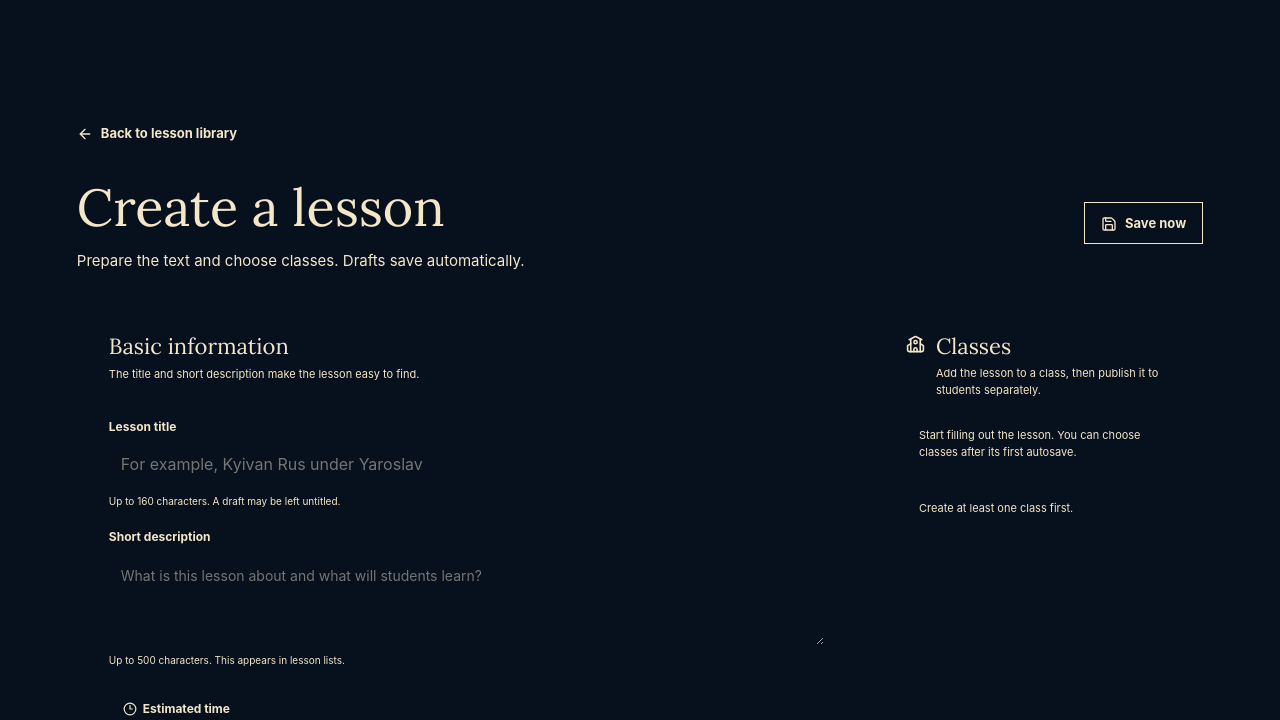
Scenario: teacher lesson workspace › does not create an empty draft and autosaves after text input
Type "The first settlement" into the field labelled "Lesson title" at point(466, 464), box [109,442,824,486]
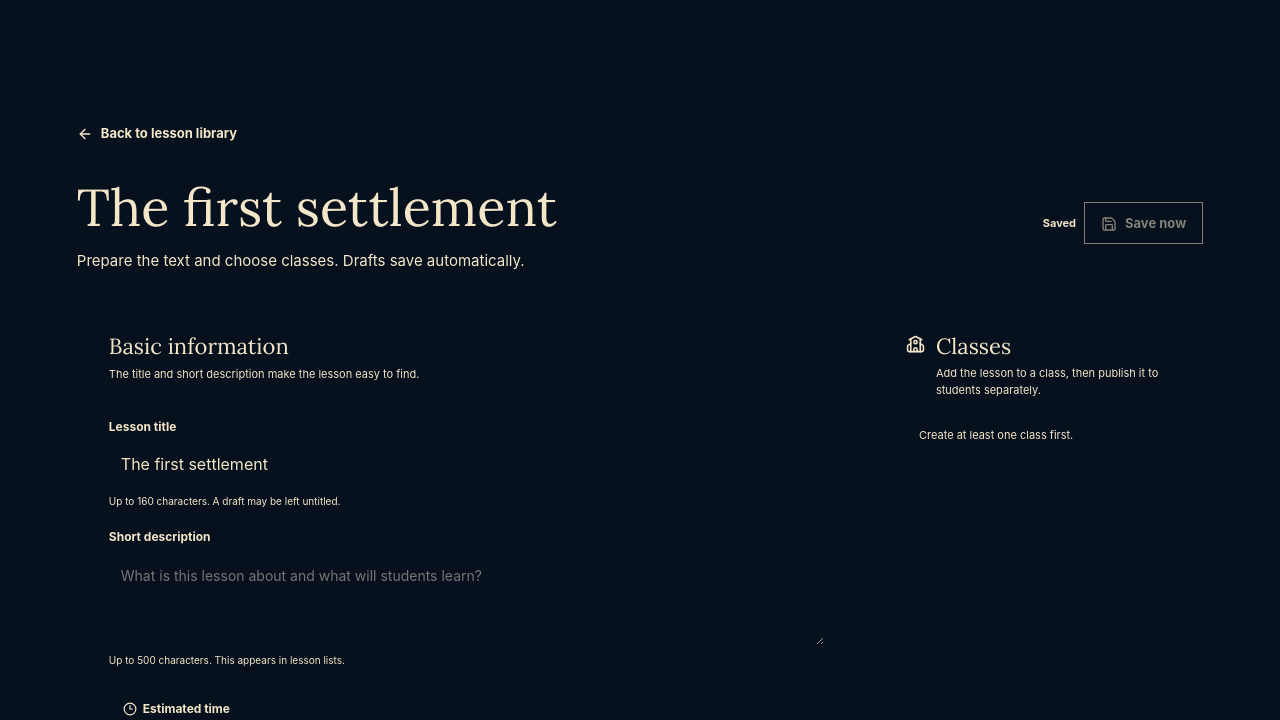
expect the text "Saved" is shown: met, box [1043,216,1076,230]
